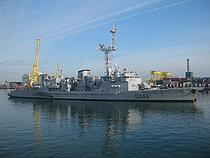MIL_Ship: (8, 64, 201, 103)
